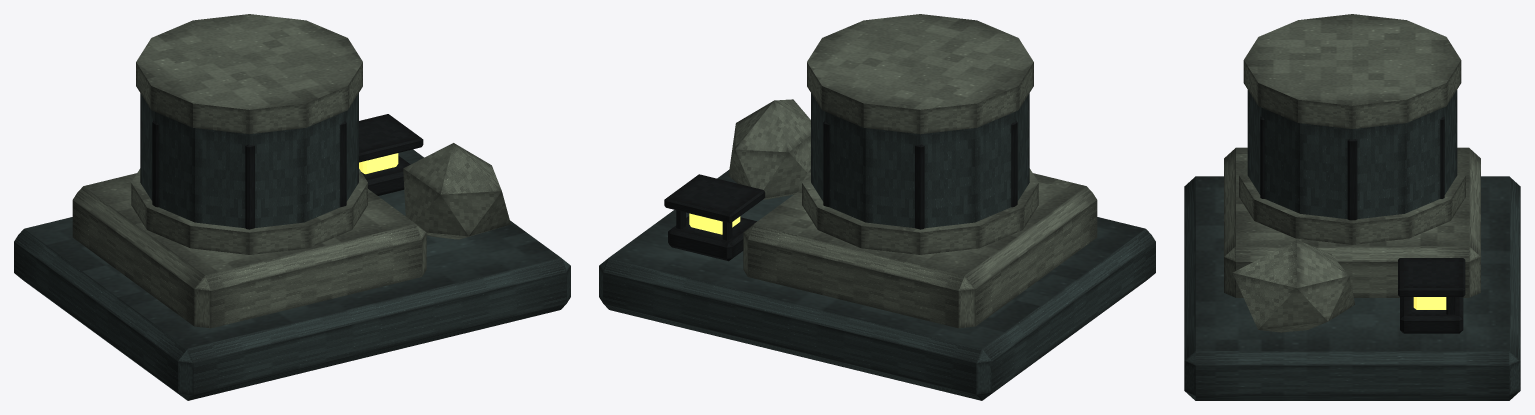
Rendered from THStage_Bay_03_ColumnStump.fbx.
3 views of the same model, side by side, from view 1: azimuth 30°, elevation 25°; view 2: azimuth 150°, elevation 25°; view 3: azimuth 270°, elevation 25° (orthographic). The views are drawn at different scales.
Parts seen in each view (by area): view 1: THStage_Bay_03_ColumnStump.010; view 2: THStage_Bay_03_ColumnStump.010; view 3: THStage_Bay_03_ColumnStump.010.
Boxes of the visible parts, <box> form: THStage_Bay_03_ColumnStump.010: <box>14,14,570,400</box>; THStage_Bay_03_ColumnStump.010: <box>599,14,1155,400</box>; THStage_Bay_03_ColumnStump.010: <box>1184,14,1520,400</box>.
Bounding box in the file's own units: 1.1 × 0.6525 × 0.85.
Materials: 2 (1 with a texture image).
